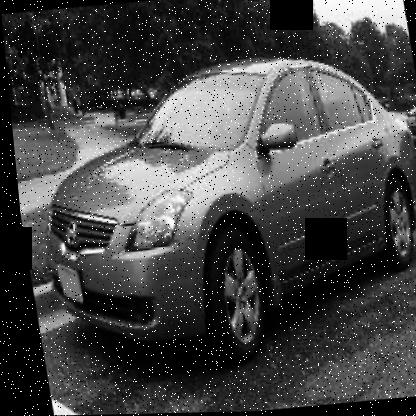not_emergency: (9, 31, 415, 371)
